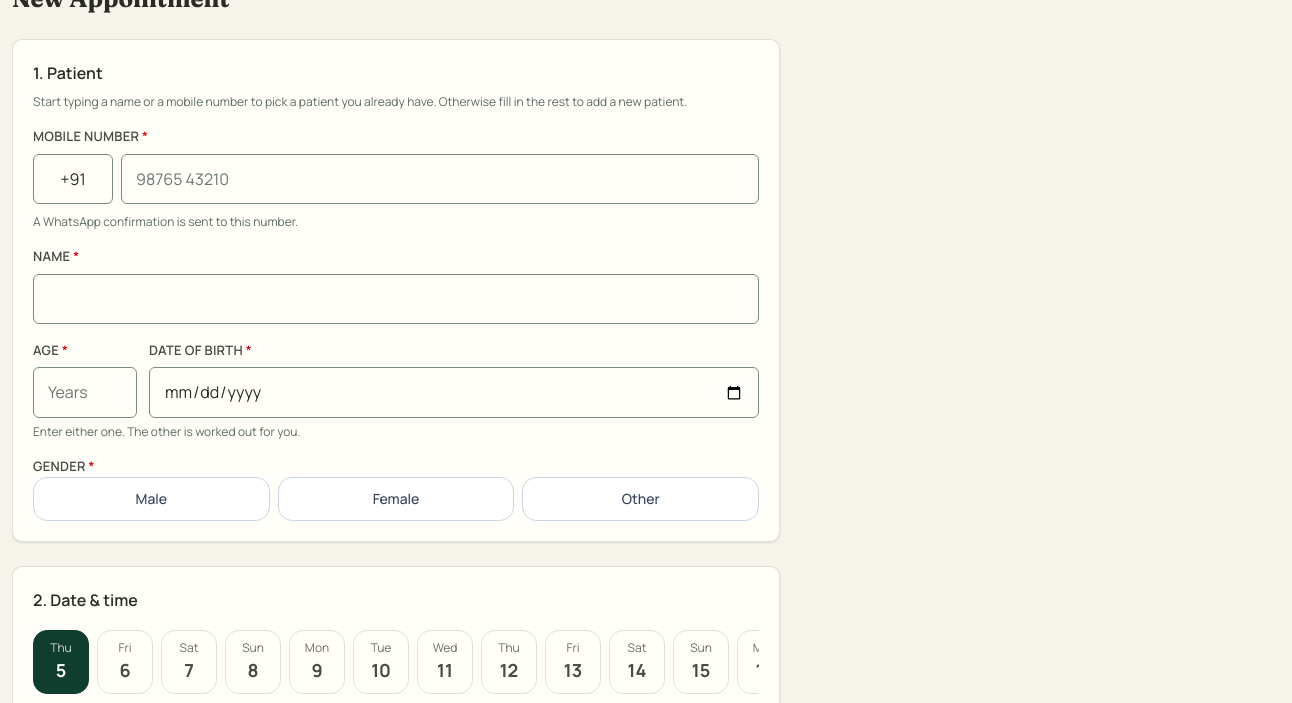
Test case: choosing the patient while booking (staff) › offers matching patients as you type, and books the one picked without asking for their details again
Type "Kir" into the dropdown labelled "Name *". click: (396, 299)
box: 33,274 -> 759,324
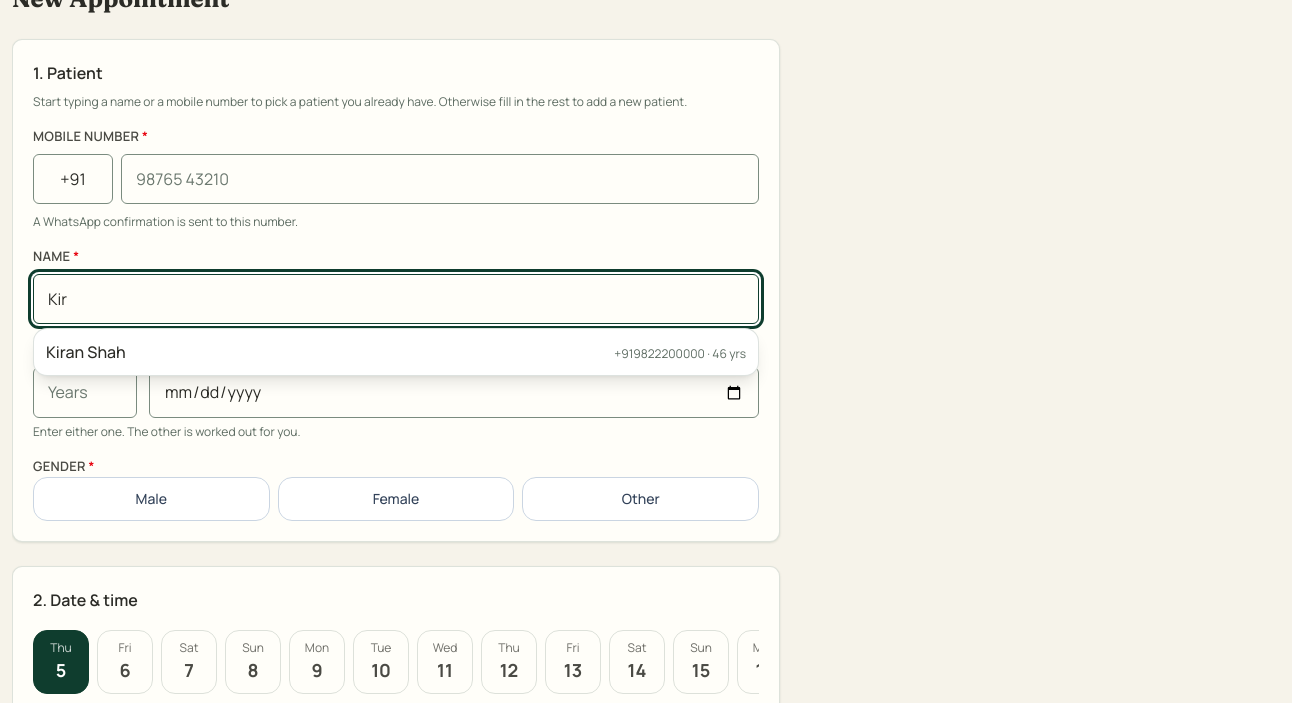
Click the option "Kiran Shah +919822200000 · 46 yrs". click: (86, 352)
box: 46,341 -> 746,363
(page scrolled)
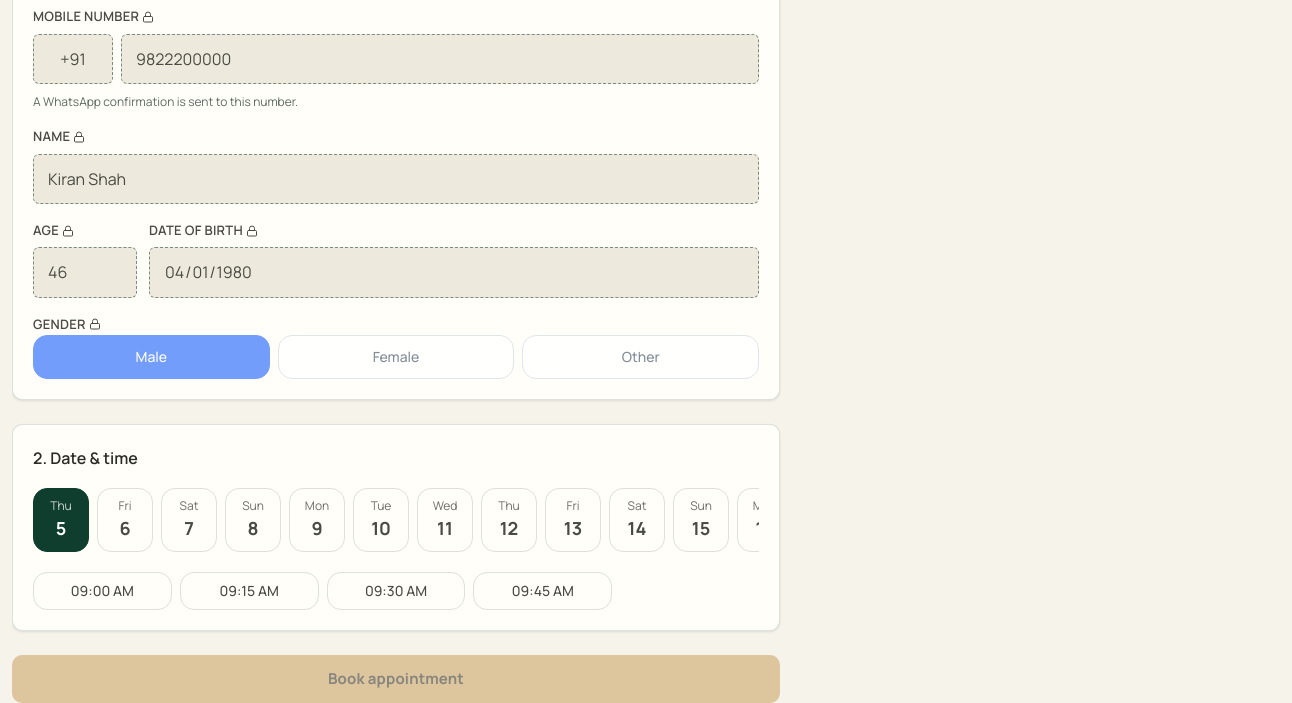
Expected: the dropdown labelled "Name" is disabled, 33,154 -> 759,204
Click the button "09:00 AM". click: (102, 591)
box: 33,572 -> 172,610
(page scrolled)
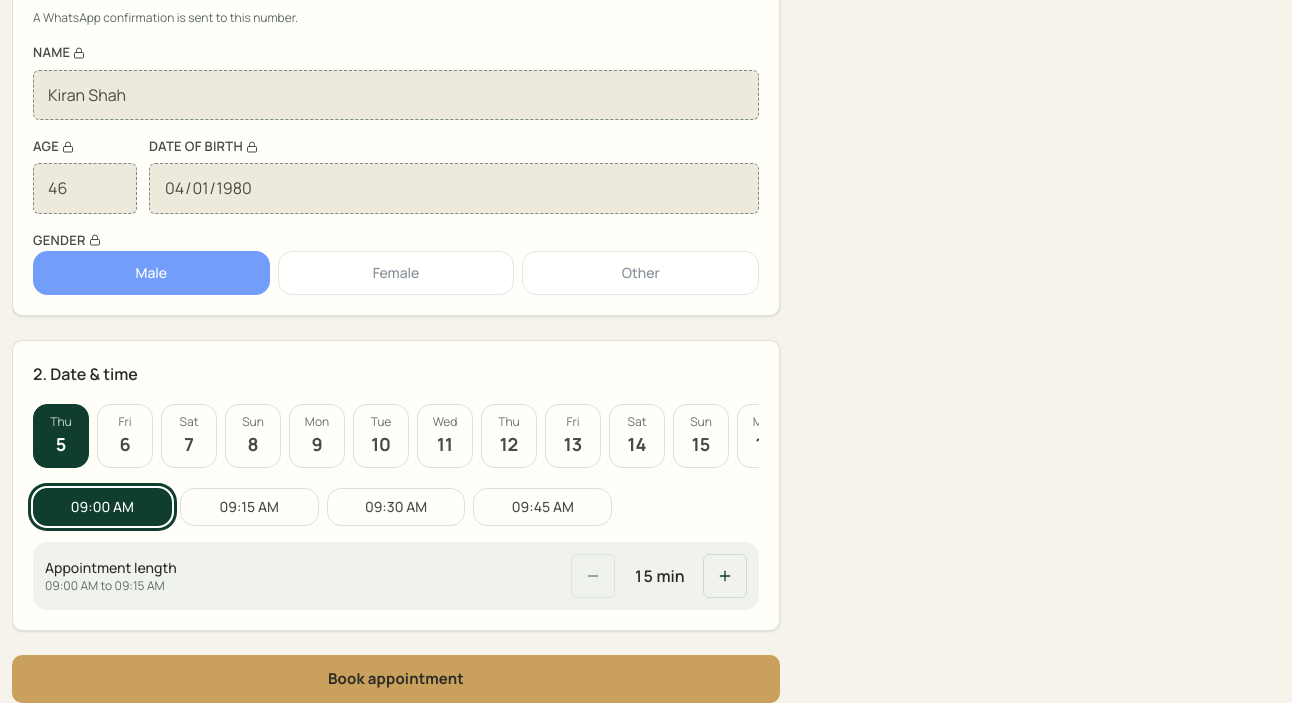
Click the button "Book appointment". click: (396, 679)
box: 12,655 -> 780,702
(page scrolled)
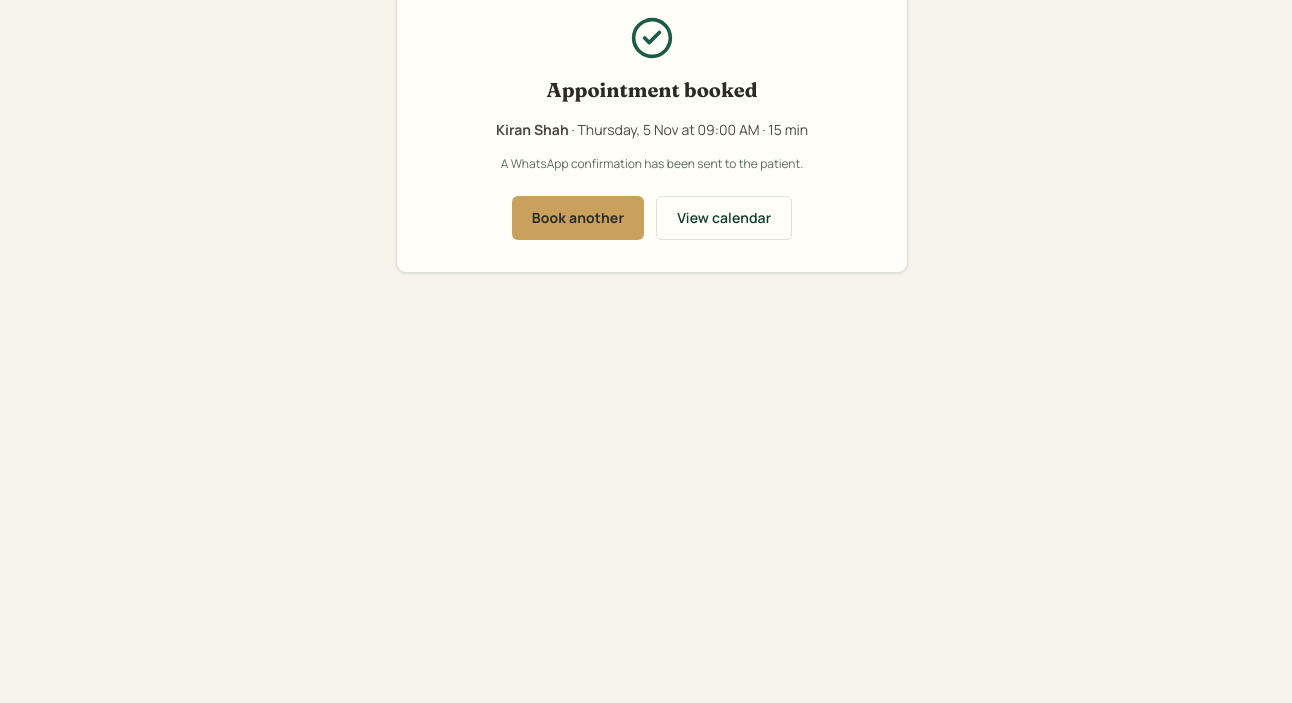
Expected: the heading "Appointment booked" is shown, 546,77 -> 758,102
